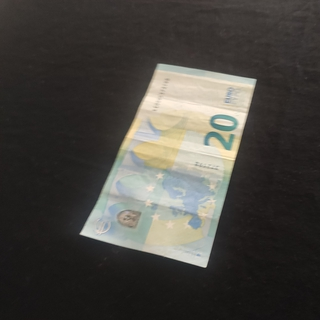20EUROBack: (79, 63, 258, 267)
